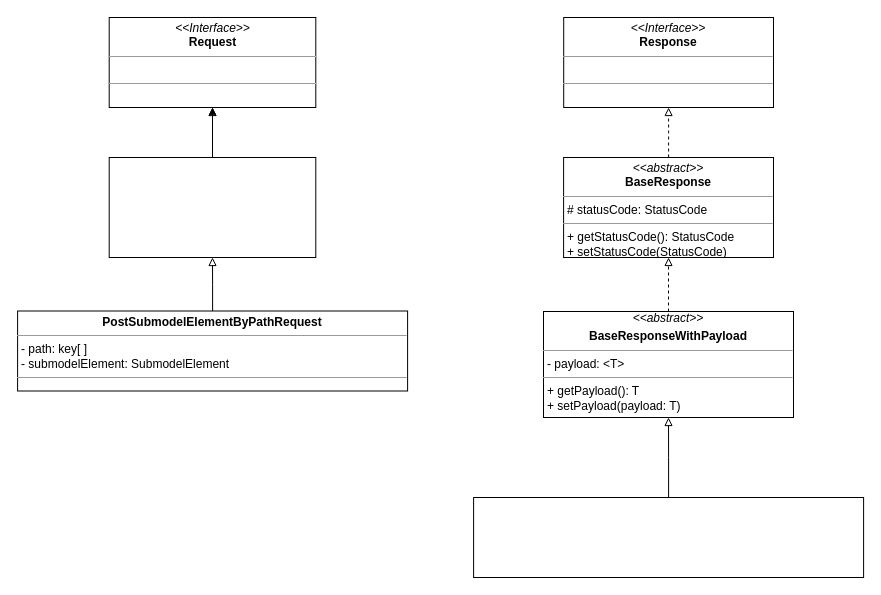
This 881x595 diagram has some shape labels left out. The box of each missing label's shape, as (x1, y1, x2, y2) in pixels:
<<abstract>> BaseRequest: (108, 156, 316, 258)
PostSubmodelElementByPathResponse - payload: SubmodelElement: (473, 496, 864, 578)
